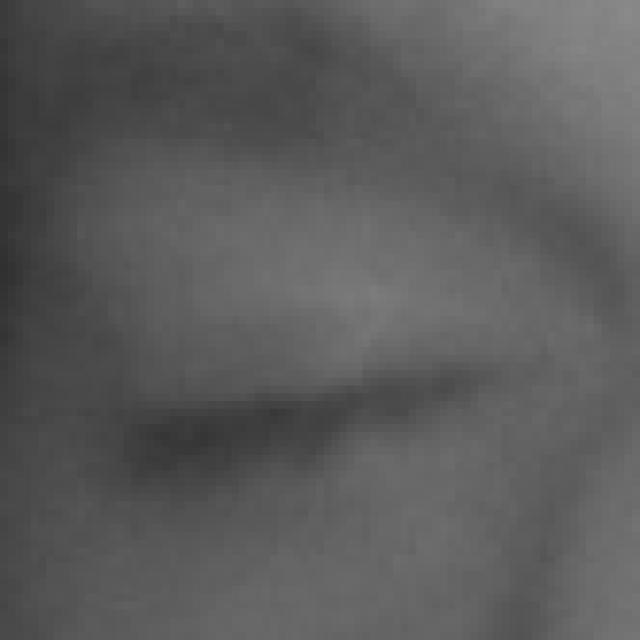Eyeclosed: (126, 216, 492, 640)
